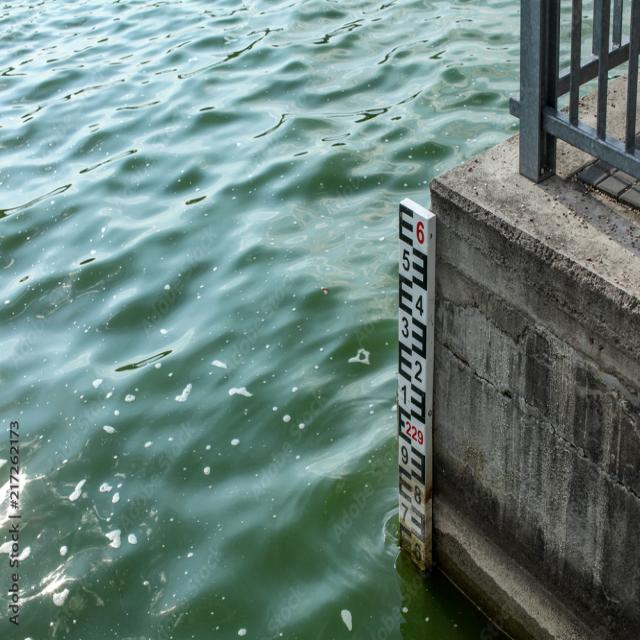ruler: (392, 189, 441, 596)
value: (403, 416, 426, 447), (410, 288, 429, 322), (410, 354, 426, 391), (398, 240, 414, 276), (412, 215, 428, 247), (397, 312, 412, 346), (398, 377, 412, 412), (398, 441, 411, 473), (410, 481, 425, 506), (398, 498, 409, 524)
